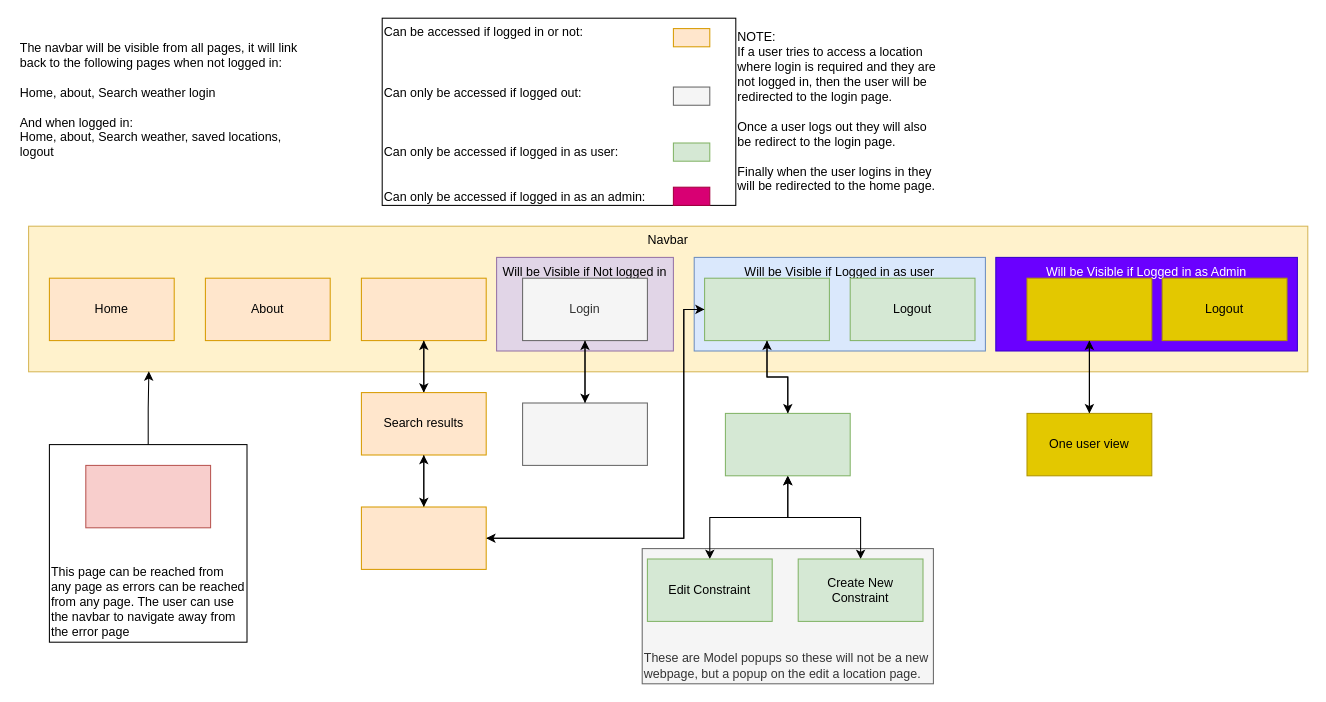
Image size: 1326x702. Some labels were removed from this diagram. The shapes that lost their labels are listed below. From the top down, each one's centre as x and y in pixels, then its label:
pixel 423 309: Search Weather
pixel 766 309: Saved locations
pixel 1089 309: View Users
pixel 584 433: Register
pixel 787 444: Edit a location
pixel 148 496: Error Page
pixel 423 537: One location view
